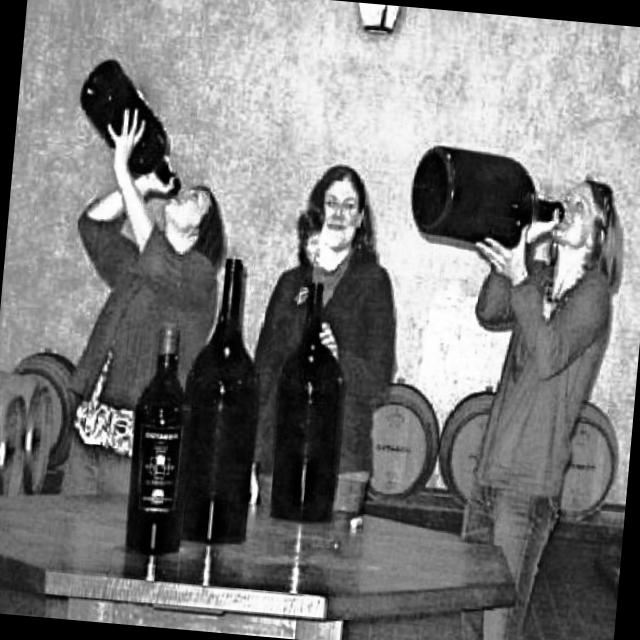Person: (438, 159, 633, 640), (52, 145, 241, 515), (238, 149, 416, 524)
